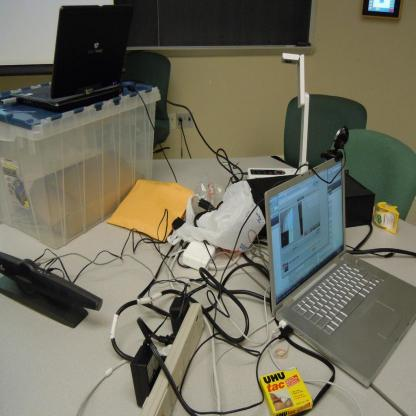board: (265, 154, 416, 388), (13, 5, 132, 112)
